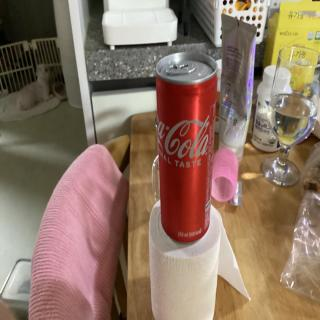cocacola: (154, 47, 219, 245)
